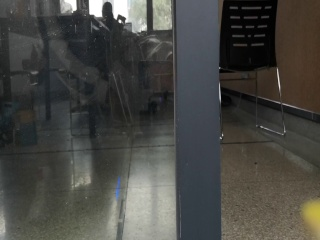room: (2, 3, 298, 240)
